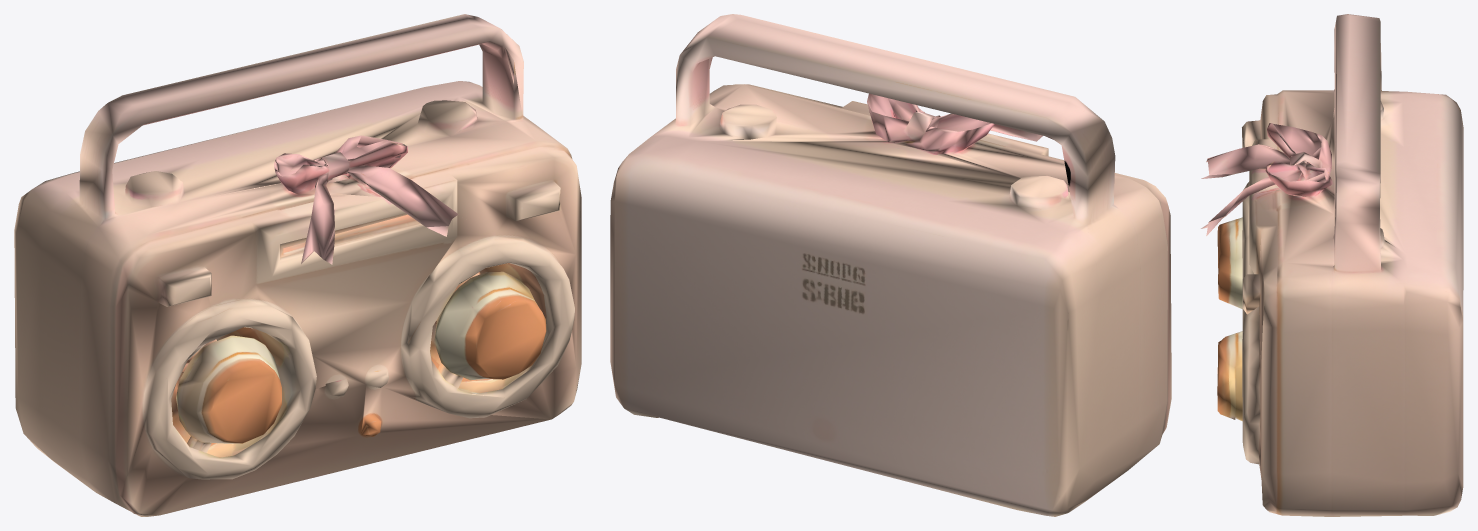
The model's file is regr_cassette_player.fbx.
The picture shows the model from 3 angles, left to right: view 1: azimuth 30°, elevation 25°; view 2: azimuth 150°, elevation 25°; view 3: azimuth 270°, elevation 25°; orthographic projection. The views are drawn at different scales.
Visible parts, largest first — view 1: Mesh1.0; view 2: Mesh1.0; view 3: Mesh1.0.
Part boxes in pixels (x1,y1,x2,y2): Mesh1.0: (14, 14, 581, 516); Mesh1.0: (610, 14, 1171, 516); Mesh1.0: (1201, 14, 1463, 516).
Size of the model in its own units: 190 by 146 by 103.
1 material, 1 textured.
